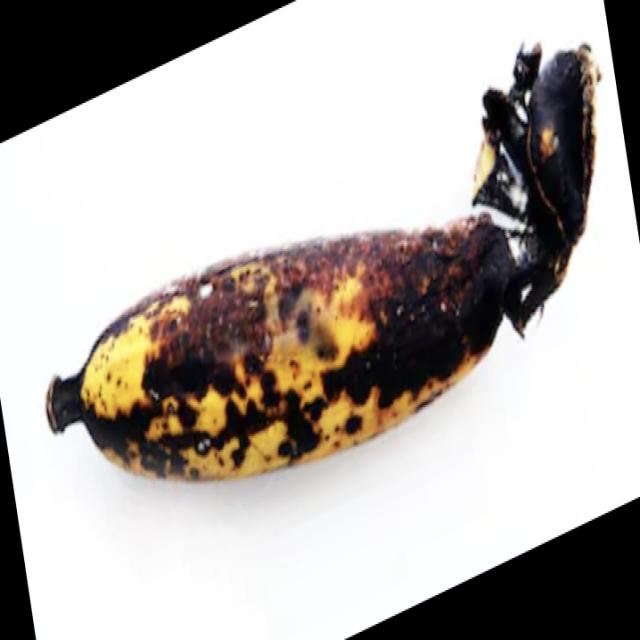Rotten: (37, 1, 604, 512)
